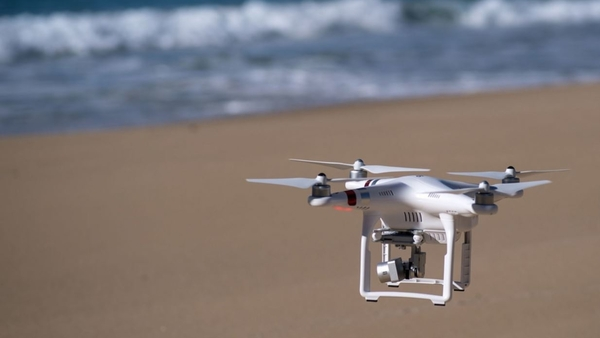drone: (245, 156, 572, 310)
